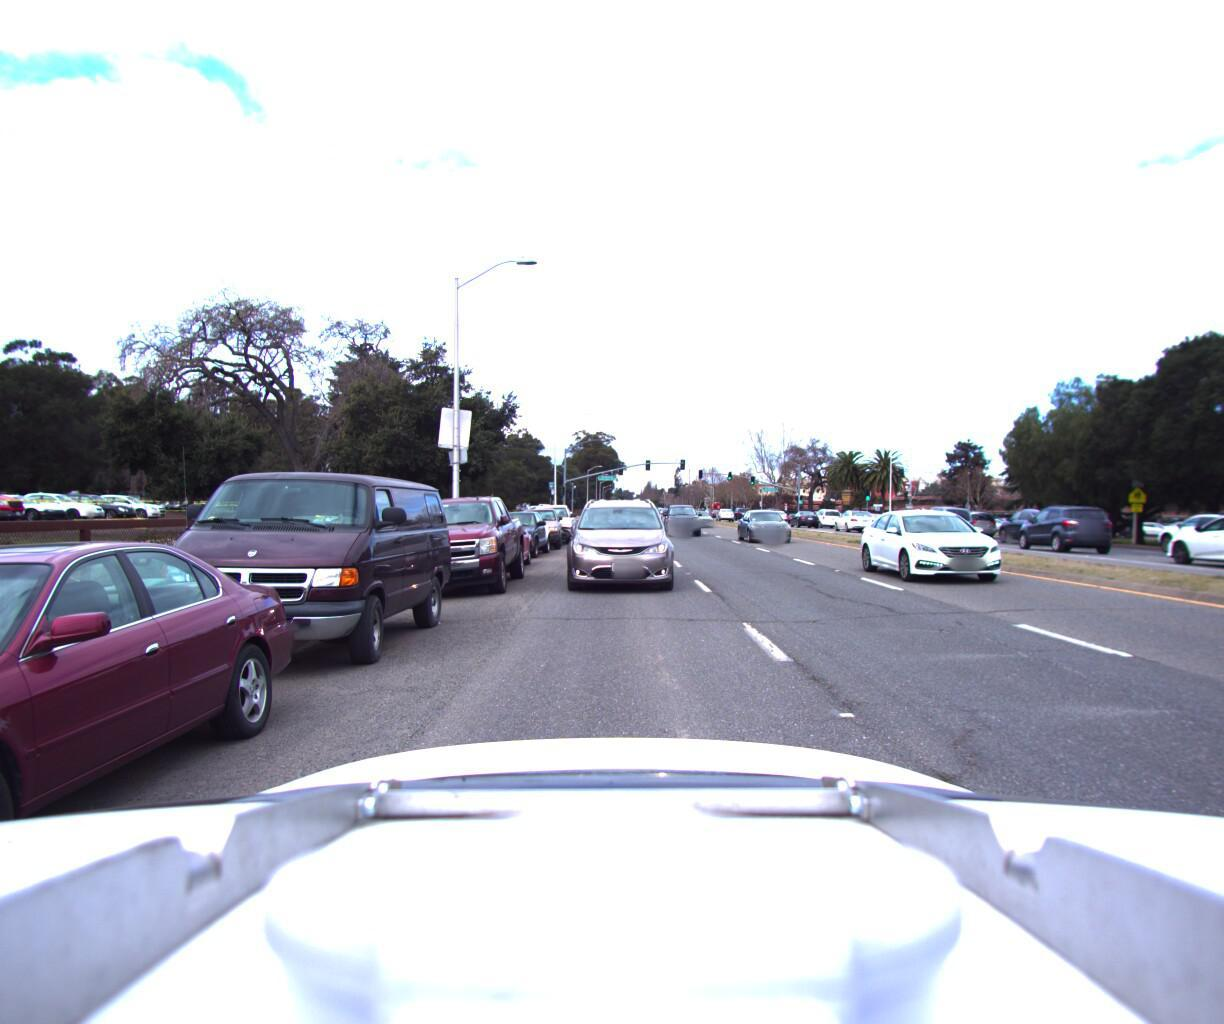car: (114, 451, 460, 695), (371, 485, 528, 600), (863, 501, 1046, 589), (556, 487, 663, 595), (440, 510, 531, 573), (1006, 505, 1108, 554), (1151, 508, 1224, 573), (1137, 506, 1224, 556), (478, 503, 548, 557), (989, 505, 1076, 546), (519, 497, 578, 543), (506, 503, 562, 550), (906, 504, 973, 541), (739, 509, 798, 546), (663, 498, 703, 533), (829, 506, 875, 531), (854, 509, 896, 531), (686, 502, 716, 526), (806, 507, 837, 528), (787, 510, 818, 526)
